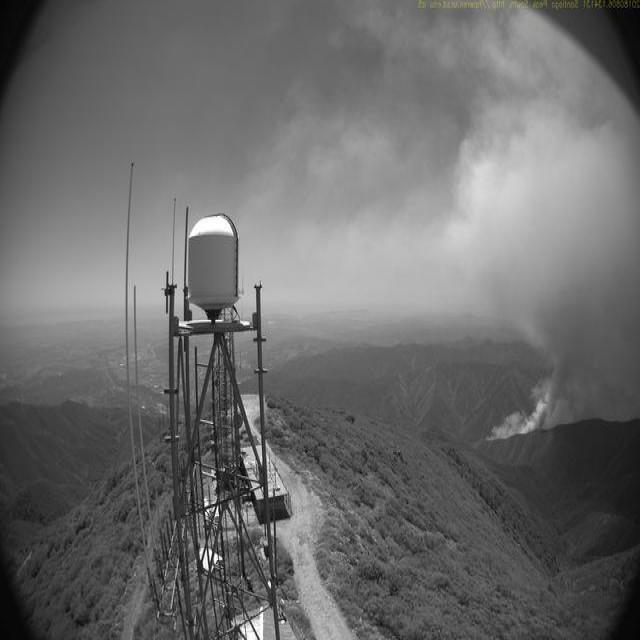Smoke: (455, 108, 638, 444)
